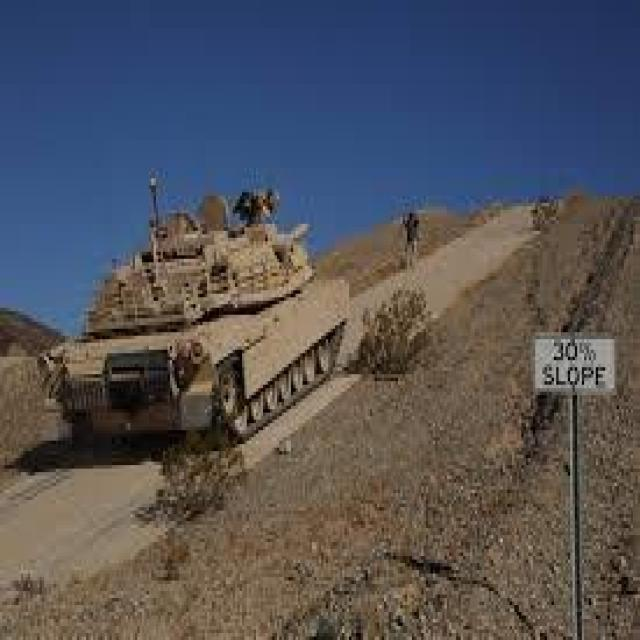MIL_MBT: (21, 73, 377, 521)
